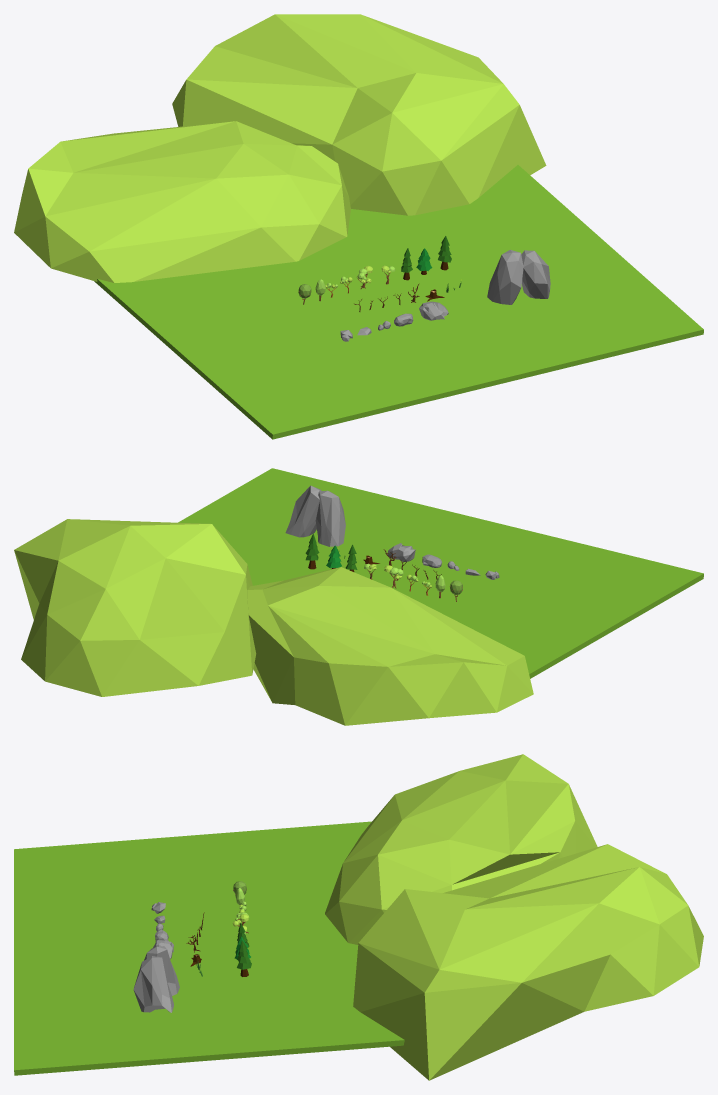
Rendered from uploads_files_3540729_Forest.fbx.
3 renders of one model, top to bottom at view 1: azimuth 30°, elevation 25°; view 2: azimuth 150°, elevation 25°; view 3: azimuth 270°, elevation 25°, orthographic. The views are drawn at different scales.
Parts seen in each view (by area): view 1: Cube.008, Icosphere.025, Icosphere.024, Icosphere.026, Icosphere.027; view 2: Cube.008, Icosphere.025, Icosphere.024, Icosphere.026, Icosphere.027; view 3: Cube.008, Icosphere.025, Icosphere.024, Icosphere.027, Icosphere.026.
Part boxes in pixels (x1,y1,x2,y2): Cube.008: (94,165,703,439); Icosphere.025: (172,14,546,215); Icosphere.024: (14,121,350,282); Icosphere.026: (487,249,523,304); Icosphere.027: (521,250,550,298); Cube.008: (178,468,703,678); Icosphere.025: (14,519,256,696); Icosphere.024: (247,567,533,725); Icosphere.026: (315,490,345,546); Icosphere.027: (285,485,321,537); Cube.008: (14,821,404,1075); Icosphere.025: (353,844,703,1080); Icosphere.024: (325,754,597,944); Icosphere.027: (133,956,173,1012); Icosphere.026: (144,946,179,995).
Bounding box in the file's own units: 2445 × 632 × 2796.
